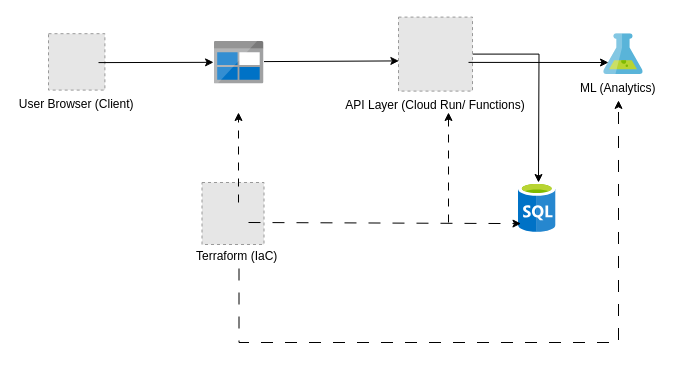
This 685x369 diagram has some shape labels left out. Grey dashed boxes stand in for pictures. The centre of each missing label's shape, as x and y in pixels:
"Database (Data Storage)" belongs at point 537,207.
"Front End (Streamlit app)" belongs at point 239,62.
